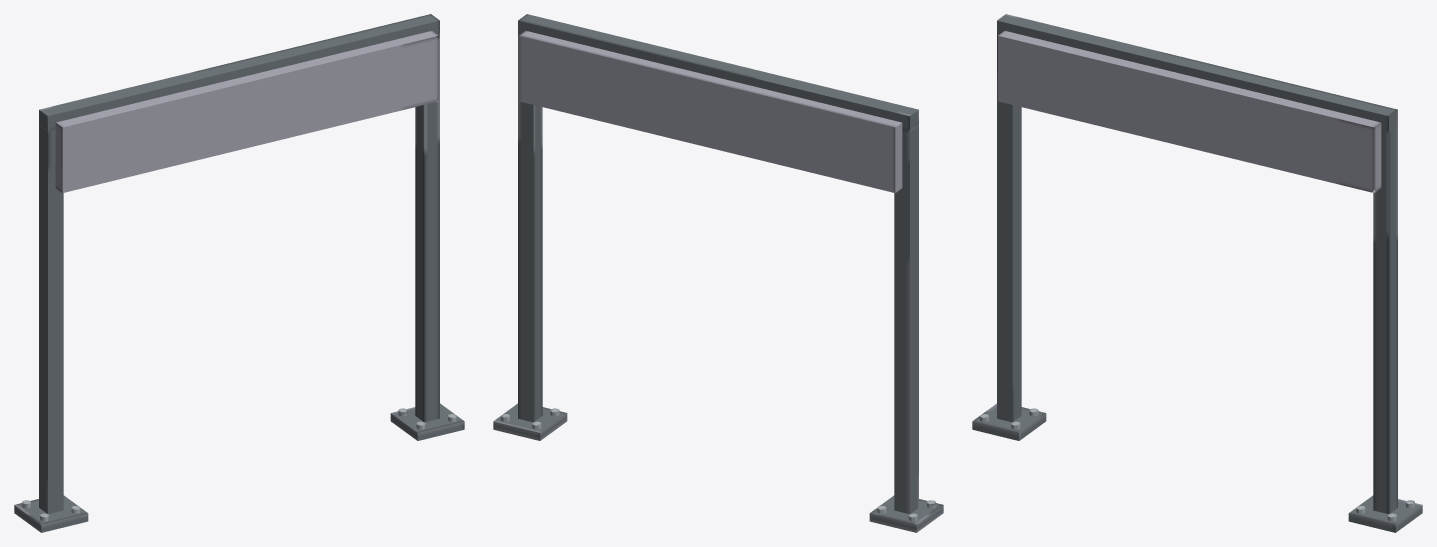
File: nl_station_sign_standing_mrw.obj
3 renders of one model, left to right at view 1: azimuth 30°, elevation 25°; view 2: azimuth 150°, elevation 25°; view 3: azimuth 330°, elevation 25°, orthographic.
Visible parts, largest first — view 1: sign_back, pole_right, pole_left, pole_top, foot_right, foot_left; view 2: sign_front, pole_right, pole_left, pole_top, foot_right, foot_left; view 3: sign_back, pole_left, pole_right, pole_top, foot_left, foot_right.
Part boxes in pixels (x1,y1,x2,y2): sign_back: (55,31,438,192); pole_right: (39,122,63,514); pole_left: (415,33,439,422); pole_top: (39,14,439,132); foot_right: (14,495,88,532); foot_left: (390,403,464,440); sign_front: (519,31,902,192); pole_right: (894,122,918,514); pole_left: (518,33,542,422); pole_top: (518,14,918,132); foot_right: (869,495,943,532); foot_left: (493,403,567,440); sign_back: (998,31,1381,192); pole_left: (1373,124,1397,514); pole_right: (997,34,1021,422); pole_top: (997,14,1397,132); foot_left: (1348,495,1422,532); foot_right: (972,403,1046,440).
Bounding box in the file's own units: 3.38 × 3.09 × 0.375.
Materials: 1 (1 with a texture image).
